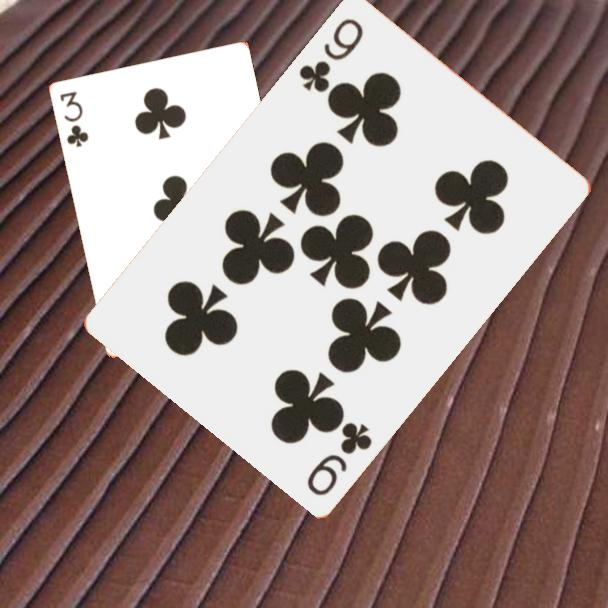c03: (56, 88, 91, 150)
c09: (303, 417, 375, 499), (295, 14, 367, 95)
